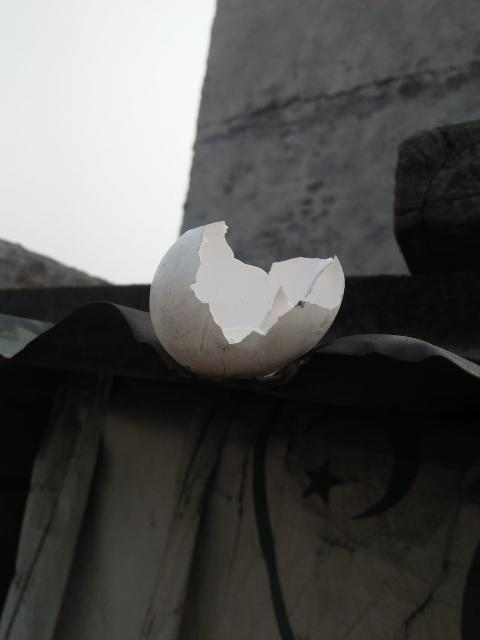Roto: (148, 220, 346, 380)
